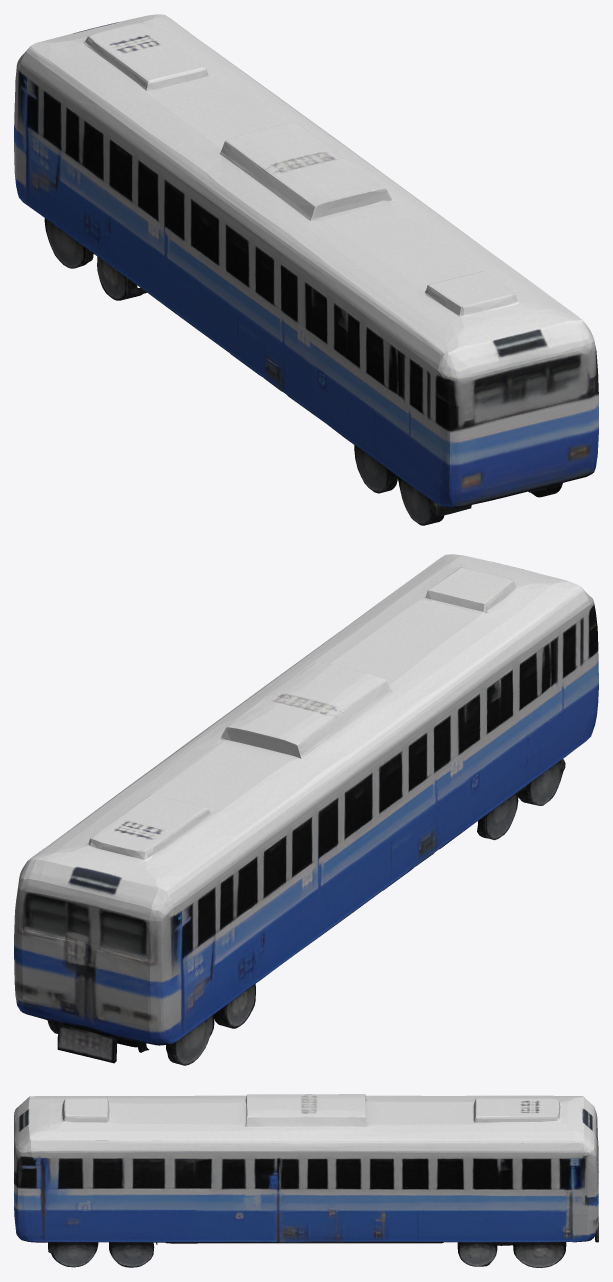
Rendered from bus.glb.
3 views of the same model, one above another, from view 1: azimuth 30°, elevation 25°; view 2: azimuth 150°, elevation 25°; view 3: azimuth 270°, elevation 25° (orthographic). The views are drawn at different scales.
Visible parts, largest first — view 1: world; view 2: world; view 3: world.
Boxes of the visible parts, bbox=[...] form: world: bbox=[14, 14, 598, 525]; world: bbox=[14, 554, 598, 1065]; world: bbox=[14, 1094, 598, 1267].
Size of the model in its own units: 0.203 by 0.271 by 0.9999.
1 material, 1 textured.
